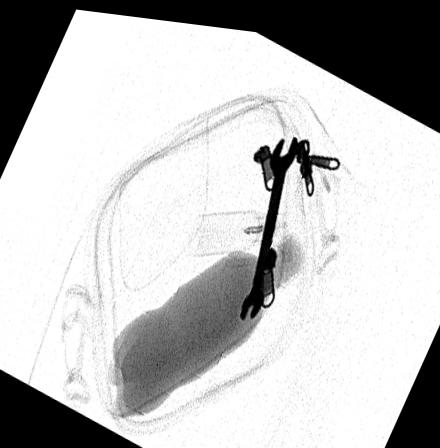Wrench: (239, 128, 298, 315)
